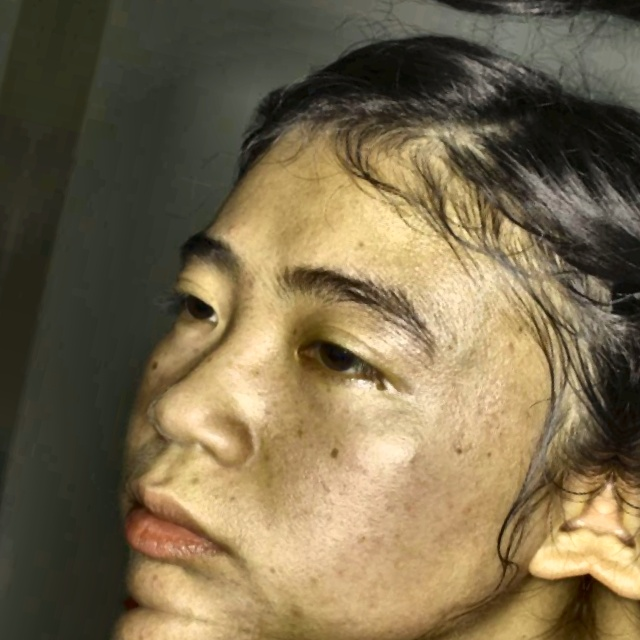comedone: (219, 213, 248, 239)
